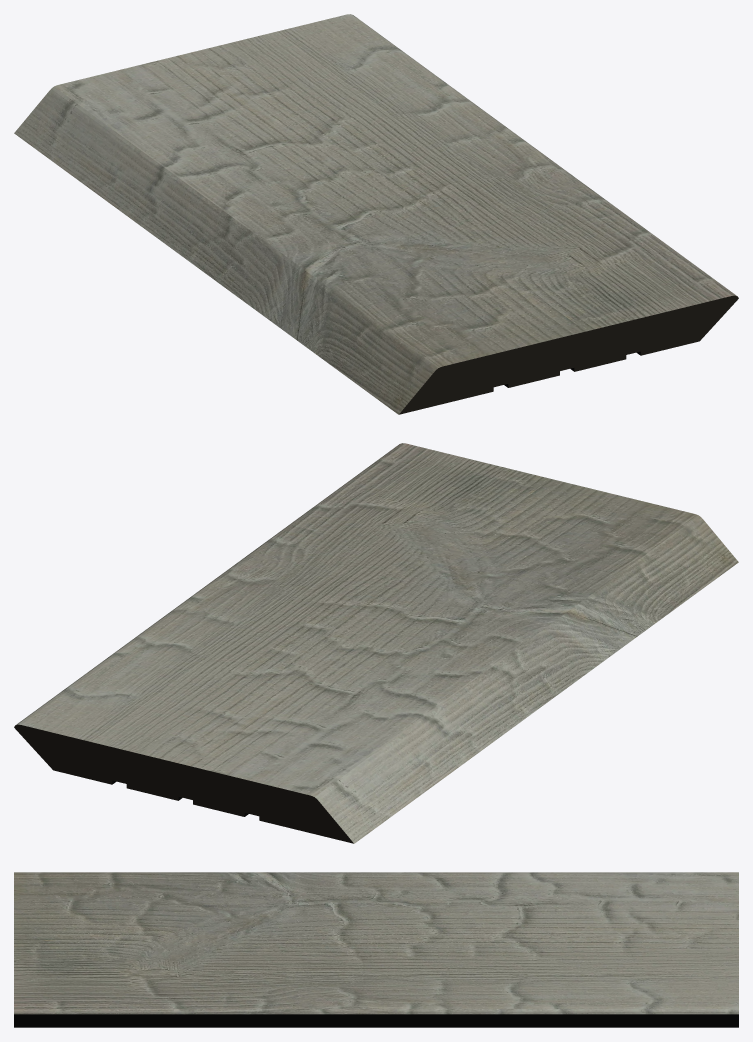
Rendered from thermo-facade-rhombus-silver.glb.
The picture shows the model from 3 angles, top to bottom: view 1: azimuth 30°, elevation 25°; view 2: azimuth 150°, elevation 25°; view 3: azimuth 270°, elevation 25°; orthographic projection. The views are drawn at different scales.
Parts seen in each view (by area): view 1: Rombas; view 2: Rombas; view 3: Rombas.
Part boxes in pixels (x1=…): Rombas: x1=14, y1=14, x2=738, y2=414; Rombas: x1=14, y1=443, x2=738, y2=843; Rombas: x1=14, y1=872, x2=738, y2=1027.
Size of the model in its own units: 0.0942 by 0.00994 by 0.1843.
3 materials, 1 textured.
